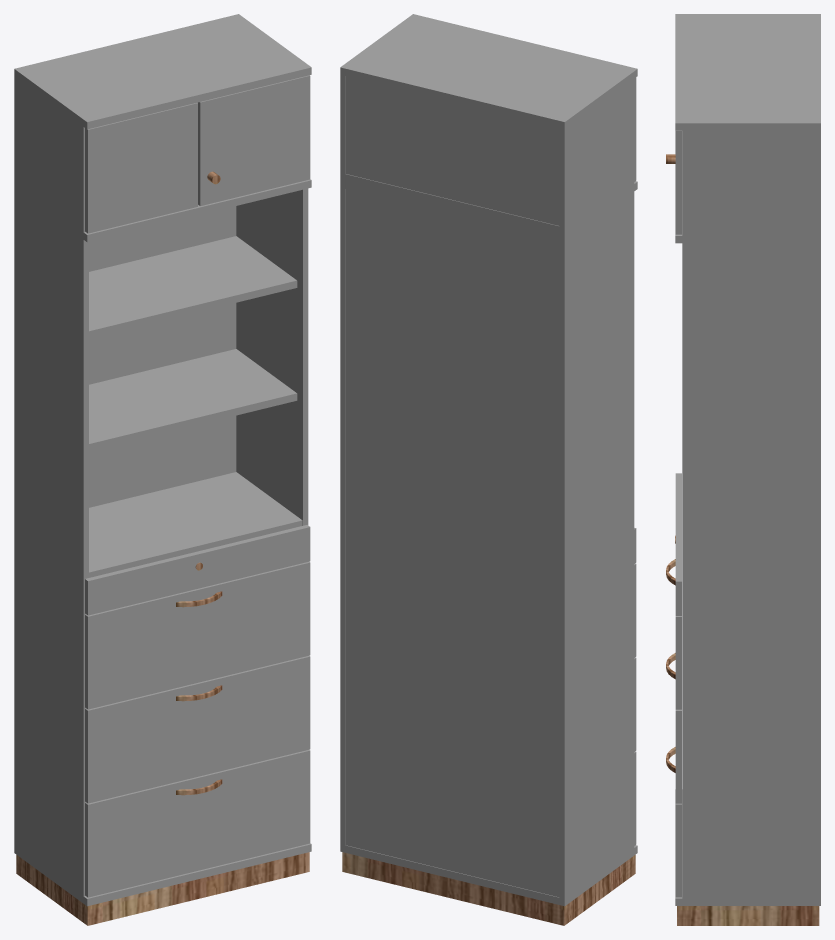
File: baseline_6OH_+1OH_45x80_shelf+drawers_fin.fbx
3 renders of one model, left to right at view 1: azimuth 30°, elevation 25°; view 2: azimuth 150°, elevation 25°; view 3: azimuth 270°, elevation 25°, orthographic.
Parts seen in each view (by area): view 1: body_mesh, front_dol_mesh, front_gora_mesh, podstawa_mesh, hyandle_mesh; view 2: body_mesh, podstawa_mesh, front_dol_mesh; view 3: body_mesh, front_dol_mesh, podstawa_mesh, front_gora_mesh, hyandle_mesh.
Boxes of the visible parts, bbox=[...] form: body_mesh: bbox=[14, 14, 311, 906]; front_dol_mesh: bbox=[85, 525, 310, 897]; front_gora_mesh: bbox=[85, 75, 310, 233]; podstawa_mesh: bbox=[16, 852, 309, 925]; hyandle_mesh: bbox=[176, 171, 222, 795]; body_mesh: bbox=[340, 14, 637, 906]; podstawa_mesh: bbox=[342, 852, 635, 925]; front_dol_mesh: bbox=[634, 528, 636, 845]; body_mesh: bbox=[675, 14, 820, 905]; front_dol_mesh: bbox=[675, 473, 681, 897]; podstawa_mesh: bbox=[677, 906, 819, 925]; front_gora_mesh: bbox=[675, 130, 681, 234]; hyandle_mesh: bbox=[666, 154, 675, 772].
Size of the model in its own units: 80 by 274 by 47.85.
